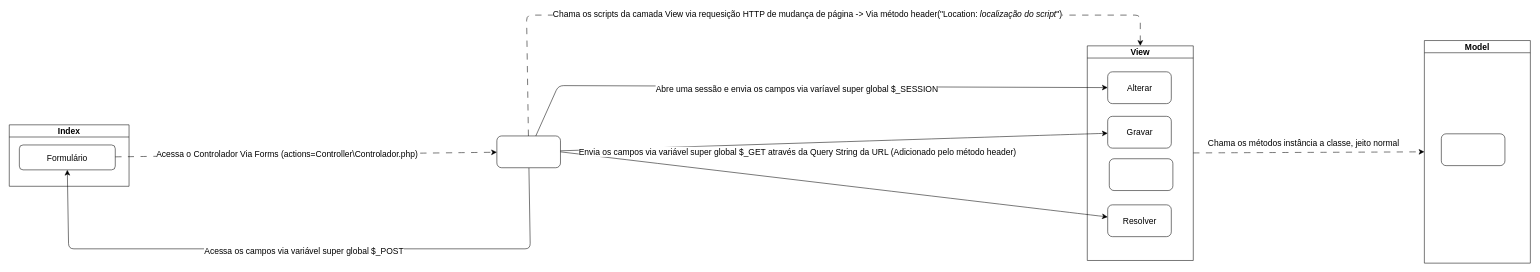
The diagram is 1540 pixels wide and 272 high, and some of its shapes have lost their labels. The shapes that lost their labels are listed below. From the top down, each one's centre as x and y in pixels, then its label:
At point 528,151: "Controlador".
At point 1473,149: "ProdutoDAO".
At point 1141,174: "Listar".
